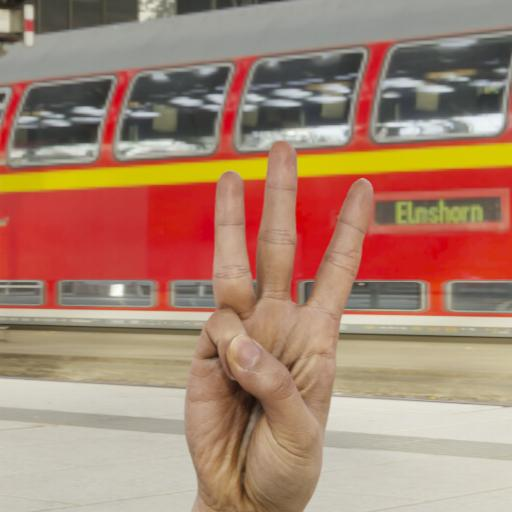W: (171, 134, 381, 512)
